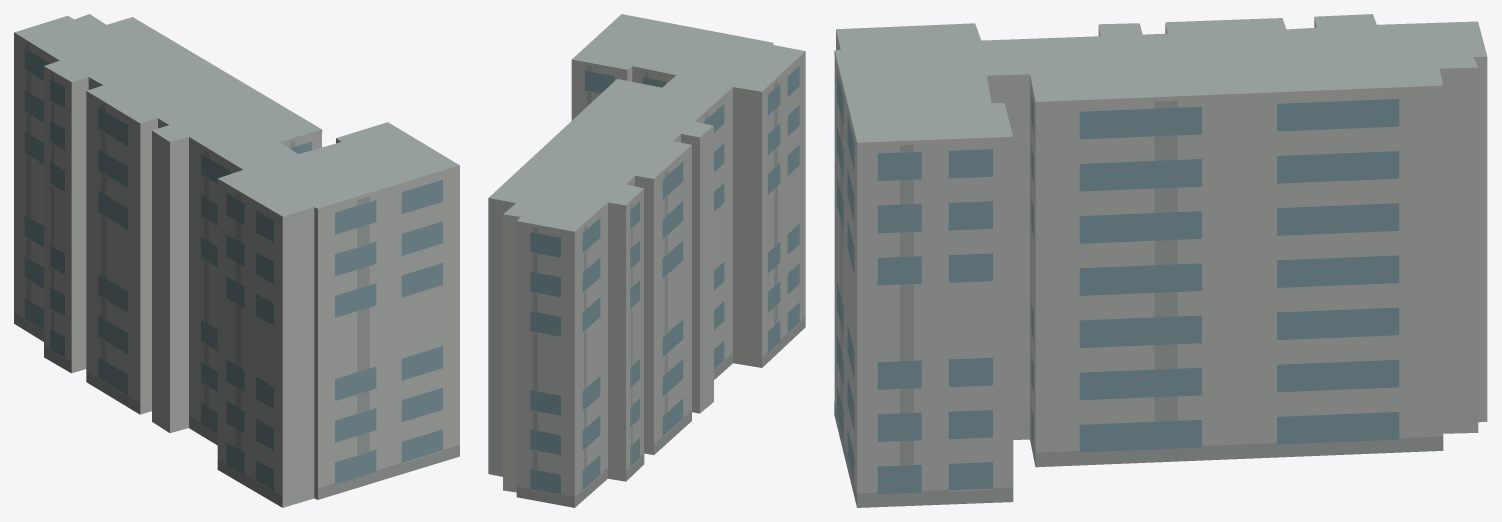
File: survey-upis-32962028.glb
3 renders of one model, left to right at view 1: azimuth 30°, elevation 25°; view 2: azimuth 150°, elevation 25°; view 3: azimuth 270°, elevation 25°, orthographic. The views are drawn at different scales.
Parts seen in each view (by area): view 1: survey-upis-32962028.tmp; view 2: survey-upis-32962028.tmp; view 3: survey-upis-32962028.tmp.
Part boxes in pixels (x1,y1,x2,y2): survey-upis-32962028.tmp: [14, 14, 459, 507]; survey-upis-32962028.tmp: [488, 14, 805, 507]; survey-upis-32962028.tmp: [834, 14, 1487, 507].
Bounding box in the file's own units: 15.65 × 20.7 × 33.55.
